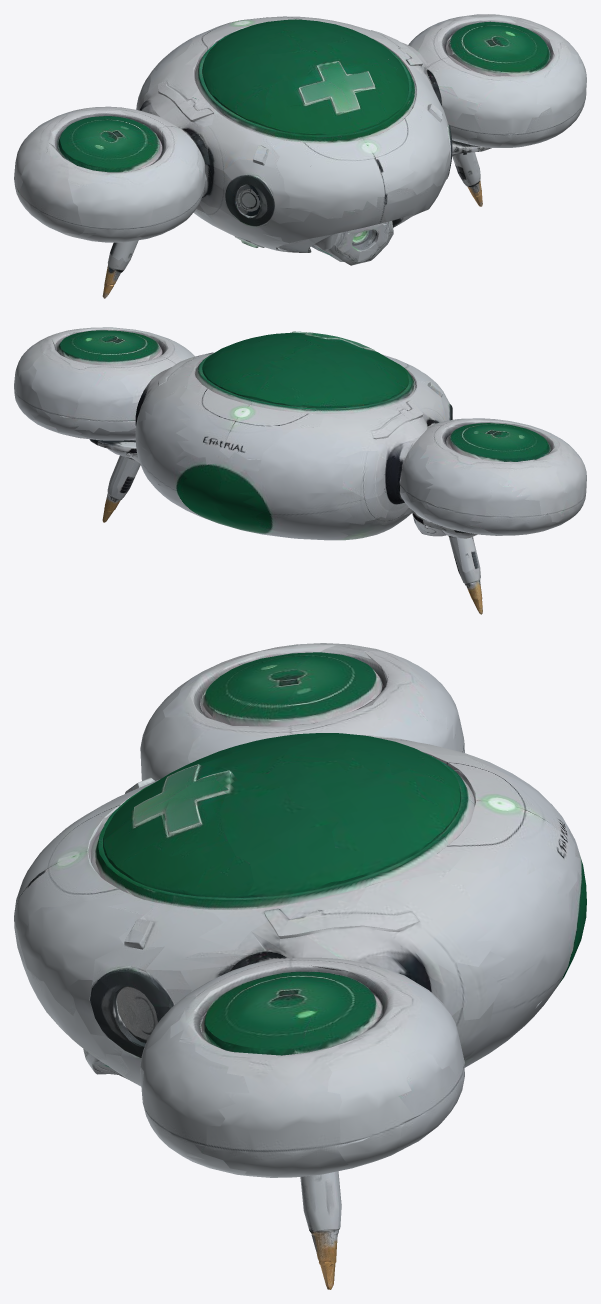
The model's file is d_repair.glb.
3 views of the same model, one above another, from view 1: azimuth 30°, elevation 25°; view 2: azimuth 150°, elevation 25°; view 3: azimuth 270°, elevation 25° (orthographic). The views are drawn at different scales.
Bounding box in the file's own units: 1.9 × 0.7197 × 1.01.
Materials: 1 (1 with a texture image).
